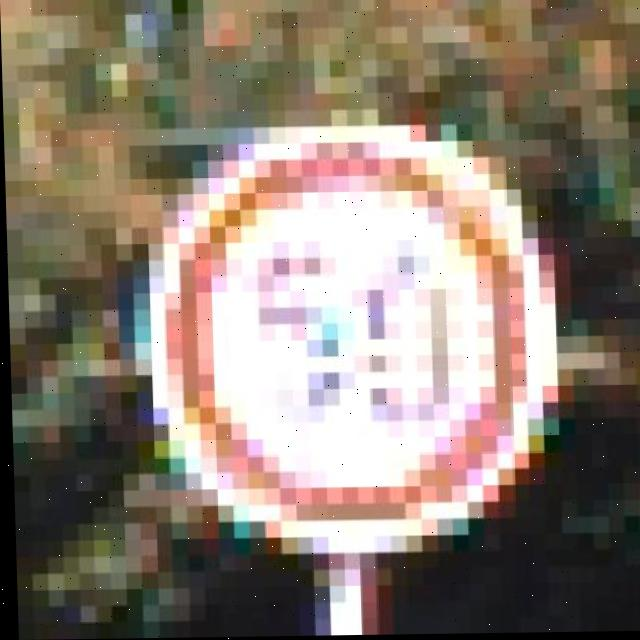Speed limit 50: (142, 121, 564, 541)
